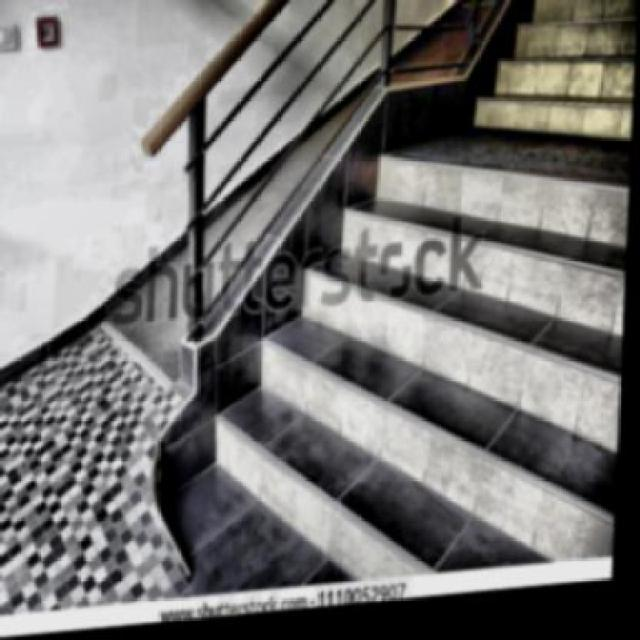stair: (172, 68, 636, 604)
